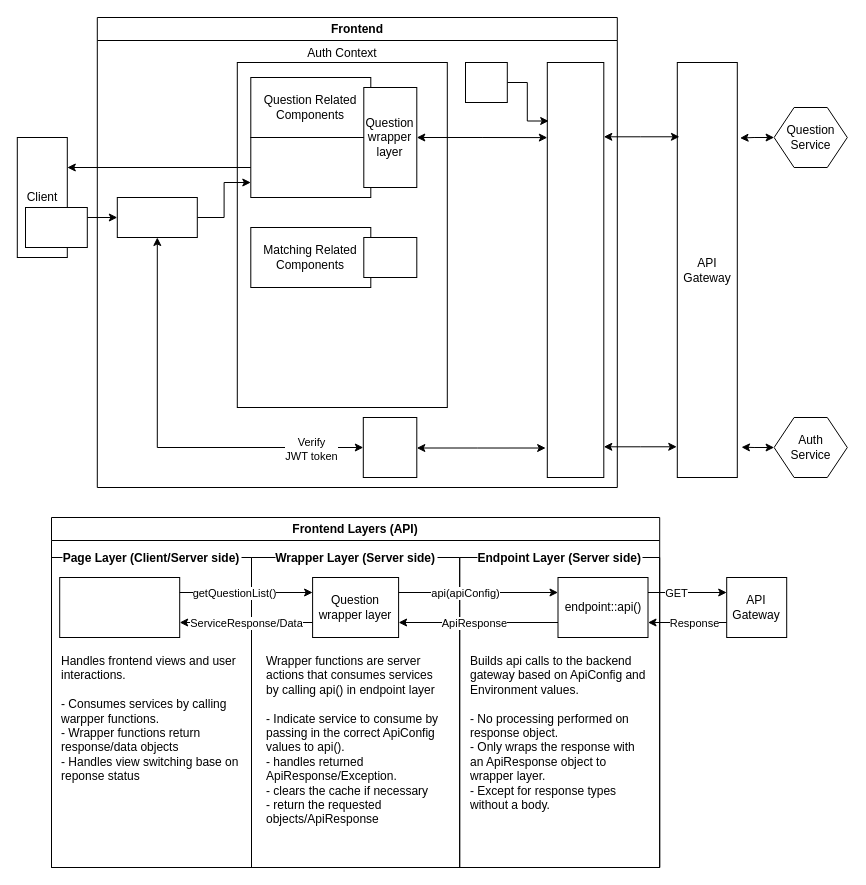
This 866x885 diagram has some shape labels left out. The centre of each missing label's shape, as x and y in pixels:
"Auth wrapper layer" goes at (x=389, y=447).
"endpoint api()" goes at (x=575, y=270).
"Matching wrapper layer" goes at (x=390, y=257).
"middleware (HOLD)" goes at (x=156, y=217).
"Question Related Pages" goes at (x=310, y=167).
"Question Related Pages/Components" goes at (x=119, y=607).
"Service token" goes at (x=485, y=82).
"user JWTtoken" goes at (x=55, y=227).
